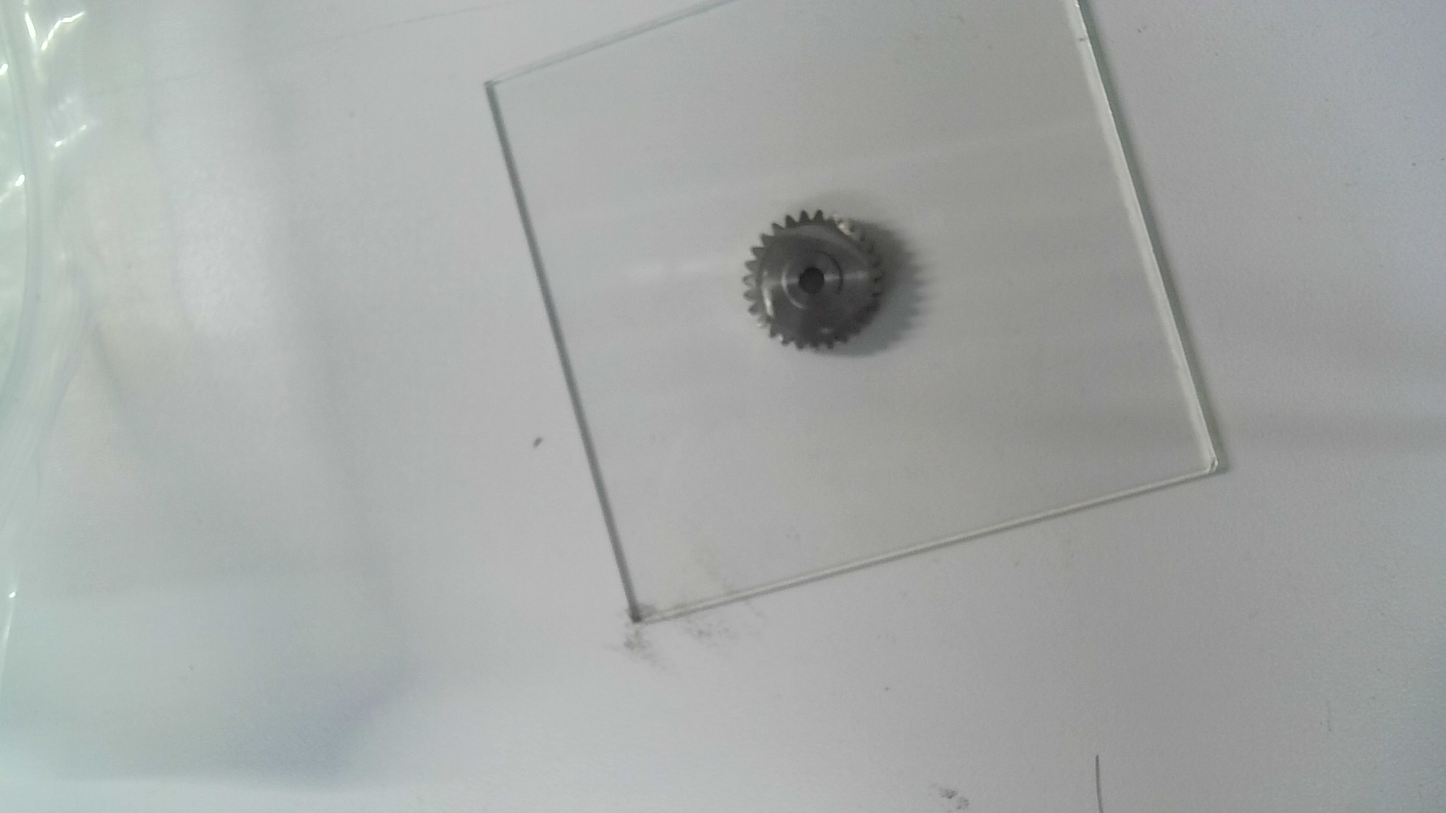gear: (738, 208, 887, 358)
